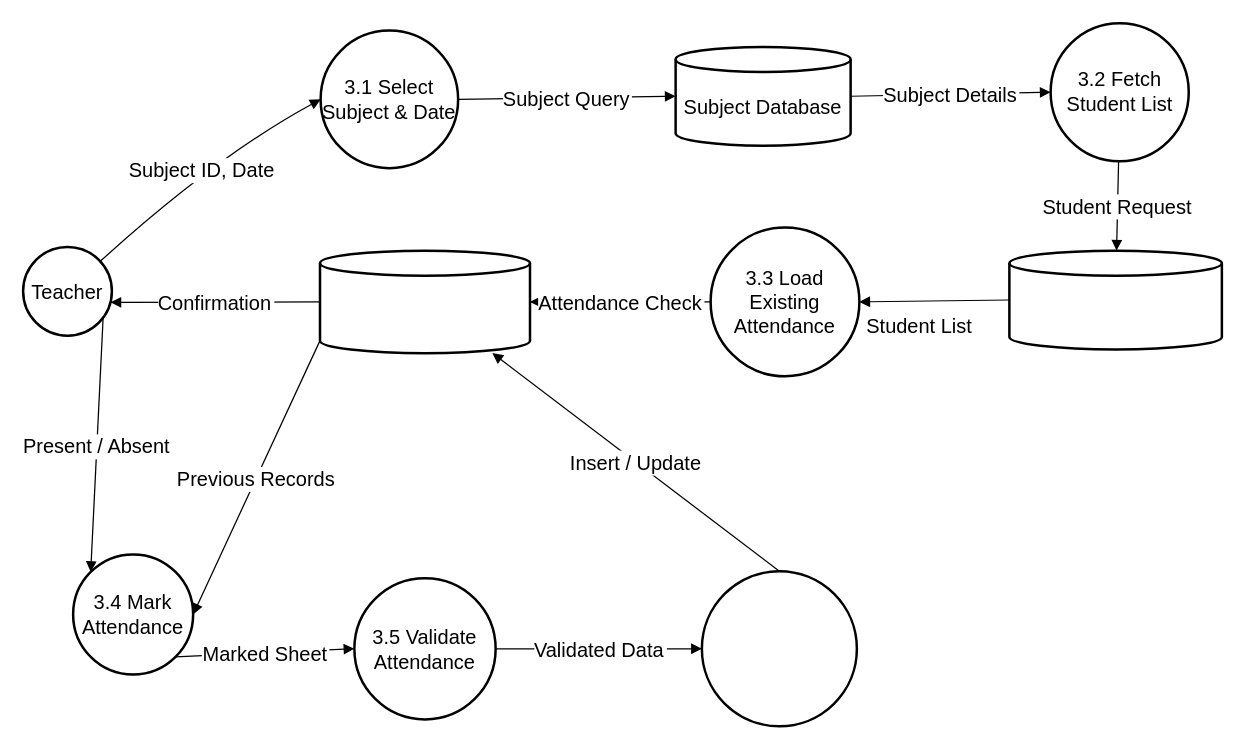
Image size: 1244x749. Some labels were removed from this diagram. Each missing label, with the centre of its shape:
3.6 Save Attendance: the point at 779,648
Attendance Database: the point at 424,301
Student Database: the point at 1115,299
